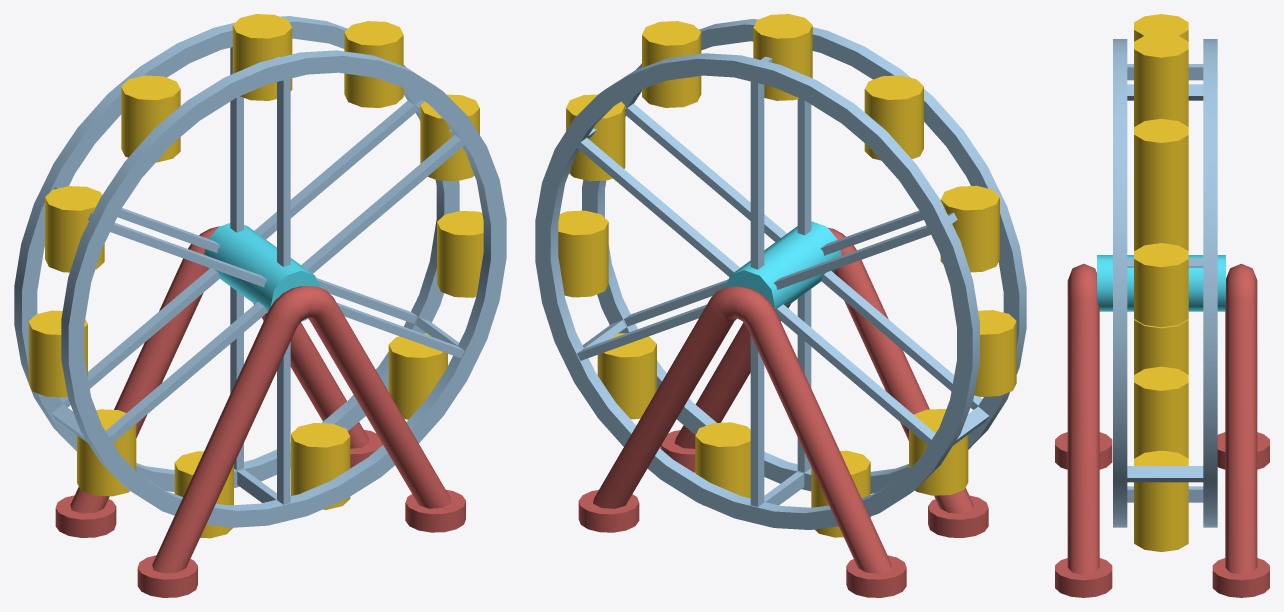
Rendered from carousel02_s02.FBX.
3 views of the same model, side by side, from view 1: azimuth 30°, elevation 25°; view 2: azimuth 150°, elevation 25°; view 3: azimuth 270°, elevation 25° (orthographic). The views are drawn at different scales.
Parts seen in each view (by area): view 1: carousel02_p01_s02, carousel02_s02, carousel02_p05_s02, carousel02_p07_s02, carousel02_p03_s02, carousel02_p12_s02, carousel02_p11_s02, carousel02_p06_s02, carousel02_p02_s02, carousel02_p10_s02, carousel02_p09_s02, carousel02_p04_s02 (+1 smaller); view 2: carousel02_p01_s02, carousel02_s02, carousel02_p05_s02, carousel02_p12_s02, carousel02_p11_s02, carousel02_p03_s02, carousel02_p06_s02, carousel02_p07_s02, carousel02_p02_s02, carousel02_p10_s02, carousel02_p04_s02, carousel02_p09_s02 (+1 smaller); view 3: carousel02_s02, carousel02_p01_s02, carousel02_p02_s02, carousel02_p04_s02, carousel02_p05_s02, carousel02_p03_s02, carousel02_p06_s02, carousel02_p10_s02, carousel02_p09_s02, carousel02_p12_s02, carousel02_p07_s02, carousel02_p11_s02 (+1 smaller).
Boxes of the visible parts, x1,y1,x2,y2 form: carousel02_p01_s02: (14,16,506,527); carousel02_s02: (55,226,465,597); carousel02_p05_s02: (437,210,483,297); carousel02_p07_s02: (291,423,350,509); carousel02_p03_s02: (344,21,403,107); carousel02_p12_s02: (121,75,180,162); carousel02_p11_s02: (45,186,104,272); carousel02_p06_s02: (388,333,447,419); carousel02_p02_s02: (232,14,292,100); carousel02_p10_s02: (28,310,87,397); carousel02_p09_s02: (77,409,136,496); carousel02_p04_s02: (420,94,479,181); carousel02_p01_s02: (535,19,1026,529); carousel02_s02: (578,227,988,597); carousel02_p05_s02: (558,210,608,297); carousel02_p12_s02: (864,75,923,160); carousel02_p11_s02: (940,185,999,272); carousel02_p03_s02: (642,21,701,107); carousel02_p06_s02: (597,333,656,419); carousel02_p07_s02: (695,422,750,505); carousel02_p02_s02: (753,14,812,100); carousel02_p10_s02: (974,310,1016,396); carousel02_p04_s02: (566,94,625,181); carousel02_p09_s02: (909,409,968,495); carousel02_s02: (1055,263,1269,597); carousel02_p01_s02: (1097,39,1225,527); carousel02_p02_s02: (1134,33,1188,117); carousel02_p04_s02: (1134,243,1188,327); carousel02_p05_s02: (1134,366,1188,450); carousel02_p03_s02: (1134,118,1188,202); carousel02_p06_s02: (1134,450,1188,534); carousel02_p10_s02: (1134,195,1188,250); carousel02_p09_s02: (1134,319,1188,374); carousel02_p12_s02: (1134,14,1188,41); carousel02_p07_s02: (1134,526,1188,551); carousel02_p11_s02: (1134,109,1188,126).
Bounding box in the file's own units: 1086 × 456 × 1120.
Materials: 1 (1 with a texture image).
